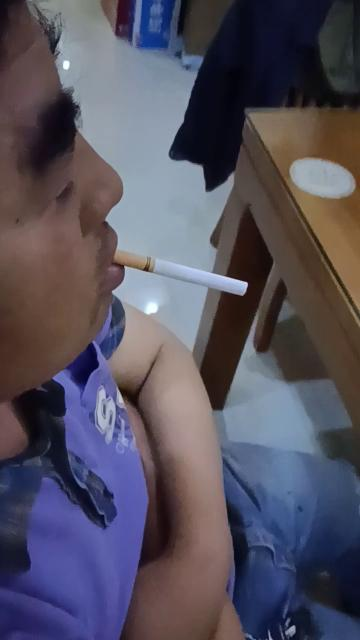Smoking: (112, 252, 252, 296)
